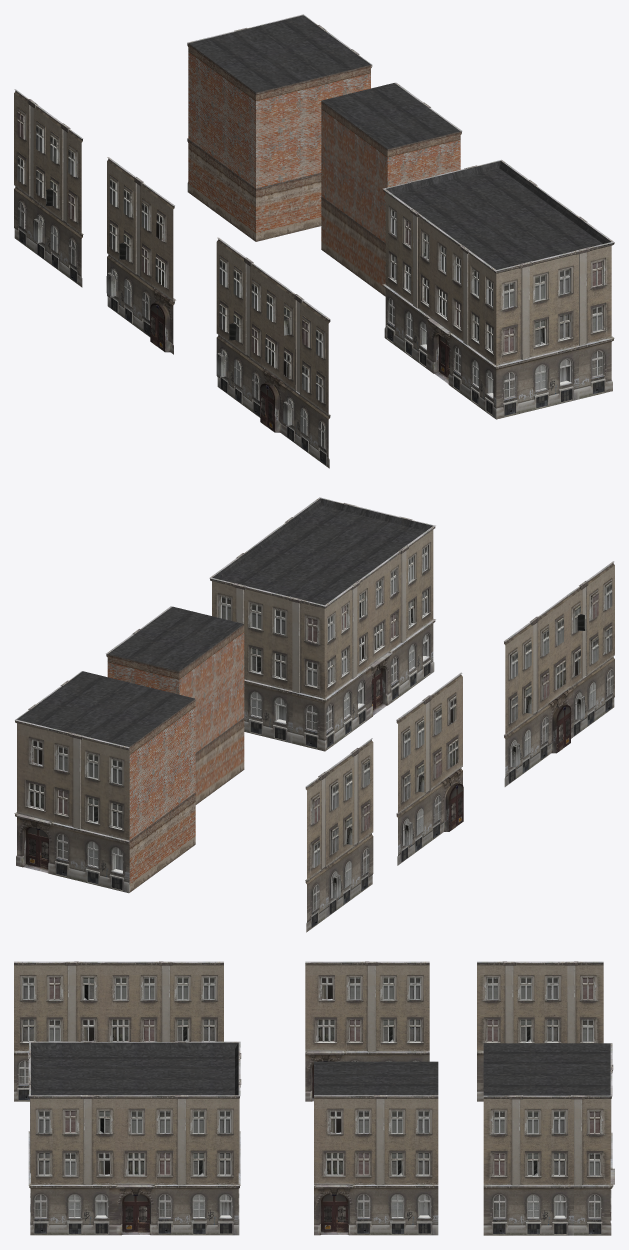
File: domy_evropa.glb
The picture shows the model from 3 angles, top to bottom: view 1: azimuth 30°, elevation 25°; view 2: azimuth 150°, elevation 25°; view 3: azimuth 270°, elevation 25°; orthographic projection. The views are drawn at different scales.
Visible parts, largest first — view 1: BuildingsHouseOld0202_double, BuildingsHouseOld0202_corner, BuildingsHouseOld0202_single, BuildingsHouseOld0202_doubleplane, BuildingsHouseOld0202_singleplanedoor_BuildingsHouseOld0202_ (×2), BuildingsHouseOld0202_singleplane, BuildingsHouseOld0202_doubleplane_BuildingsHouseOld0202_wind, BuildingsHouseOld0202_singleplane_BuildingsHouseOld0202_wind; view 2: BuildingsHouseOld0202_double, BuildingsHouseOld0202_corner, BuildingsHouseOld0202_doubleplane, BuildingsHouseOld0202_single, BuildingsHouseOld0202_singleplanedoor_BuildingsHouseOld0202_ (×2), BuildingsHouseOld0202_singleplane, BuildingsHouseOld0202_doubleplane_BuildingsHouseOld0202_wind, BuildingsHouseOld0202_singleplane_BuildingsHouseOld0202_wind; view 3: BuildingsHouseOld0202_double, BuildingsHouseOld0202_corner, BuildingsHouseOld0202_single, BuildingsHouseOld0202_doubleplane, BuildingsHouseOld0202_singleplanedoor_BuildingsHouseOld0202_ (×2), BuildingsHouseOld0202_singleplane, BuildingsHouseOld0202_doubleplane_BuildingsHouseOld0202_wind, BuildingsHouseOld0202_singleplane_BuildingsHouseOld0202_wind.
Part boxes in pixels (box(x1,y1,x2,y2)): BuildingsHouseOld0202_double: box(382, 159, 614, 419); BuildingsHouseOld0202_corner: box(187, 14, 372, 241); BuildingsHouseOld0202_single: box(321, 82, 462, 296); BuildingsHouseOld0202_doubleplane: box(216, 237, 330, 468); BuildingsHouseOld0202_singleplanedoor_BuildingsHouseOld0202_ (×2): box(106, 157, 175, 354); BuildingsHouseOld0202_singleplane: box(14, 89, 83, 287); BuildingsHouseOld0202_doubleplane_BuildingsHouseOld0202_wind: box(219, 259, 324, 447); BuildingsHouseOld0202_singleplane_BuildingsHouseOld0202_wind: box(17, 112, 74, 265); BuildingsHouseOld0202_double: box(209, 497, 435, 751); BuildingsHouseOld0202_corner: box(14, 671, 195, 893); BuildingsHouseOld0202_doubleplane: box(504, 561, 614, 786); BuildingsHouseOld0202_single: box(106, 606, 244, 804); BuildingsHouseOld0202_singleplanedoor_BuildingsHouseOld0202_ (×2): box(396, 672, 463, 865); BuildingsHouseOld0202_singleplane: box(305, 738, 373, 932); BuildingsHouseOld0202_doubleplane_BuildingsHouseOld0202_wind: box(511, 583, 613, 756); BuildingsHouseOld0202_singleplane_BuildingsHouseOld0202_wind: box(313, 760, 369, 910); BuildingsHouseOld0202_double: box(28, 1041, 241, 1235); BuildingsHouseOld0202_corner: box(483, 1043, 614, 1235); BuildingsHouseOld0202_single: box(314, 1061, 438, 1235); BuildingsHouseOld0202_doubleplane: box(14, 961, 223, 1101); BuildingsHouseOld0202_singleplanedoor_BuildingsHouseOld0202_ (×2): box(305, 961, 429, 1101); BuildingsHouseOld0202_singleplane: box(477, 961, 603, 1101); BuildingsHouseOld0202_doubleplane_BuildingsHouseOld0202_wind: box(19, 977, 214, 1083); BuildingsHouseOld0202_singleplane_BuildingsHouseOld0202_wind: box(487, 977, 593, 1041).
Size of the model in its own units: 26.94 by 12.68 by 49.35.
Materials: 5 (5 with a texture image).
